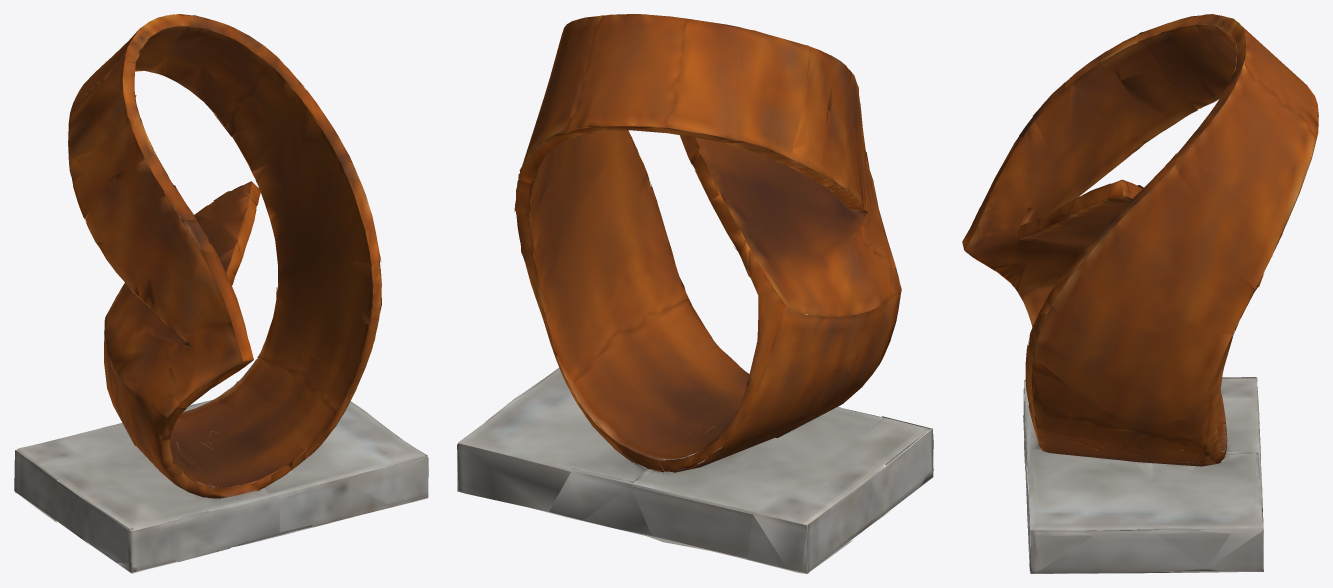
File: art1.glb
3 renders of one model, left to right at view 1: azimuth 30°, elevation 25°; view 2: azimuth 150°, elevation 25°; view 3: azimuth 270°, elevation 25°, orthographic. The views are drawn at different scales.
Visible parts, largest first — view 1: LO.001; view 2: LO.001; view 3: LO.001.
Part boxes in pixels (x1=…): LO.001: x1=14, y1=14, x2=428, y2=573; LO.001: x1=457, y1=14, x2=933, y2=573; LO.001: x1=962, y1=14, x2=1318, y2=573.
Bounding box in the file's own units: 0.6994 × 0.9818 × 0.6866.
1 material, 1 textured.
